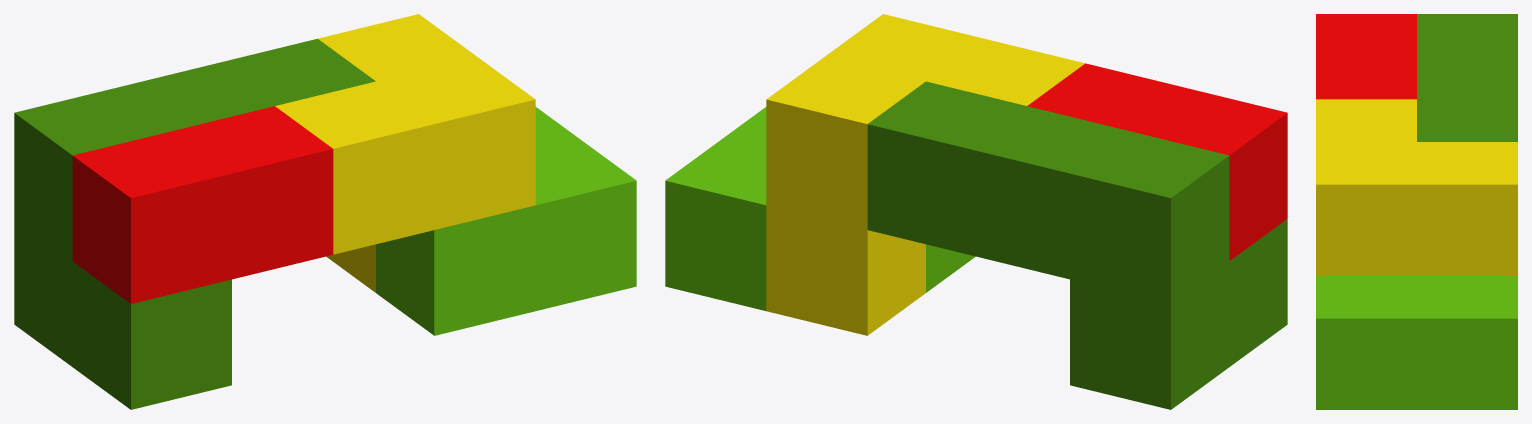
3 views of the same model, side by side, from view 1: azimuth 30°, elevation 25°; view 2: azimuth 150°, elevation 25°; view 3: azimuth 270°, elevation 25° (orthographic). The views are drawn at different scales.
Visible parts, largest first — view 1: mergedBlocks(Clone); view 2: mergedBlocks(Clone); view 3: mergedBlocks(Clone).
Boxes of the visible parts, box(x1,y1,x2,y2) form: mergedBlocks(Clone): box(14, 14, 636, 409); mergedBlocks(Clone): box(665, 14, 1287, 409); mergedBlocks(Clone): box(1316, 14, 1517, 409).
Size of the model in its own units: 5 by 2 by 2.
4 materials, 4 textured.
